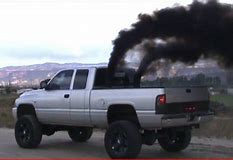smoke: (104, 1, 233, 83)
